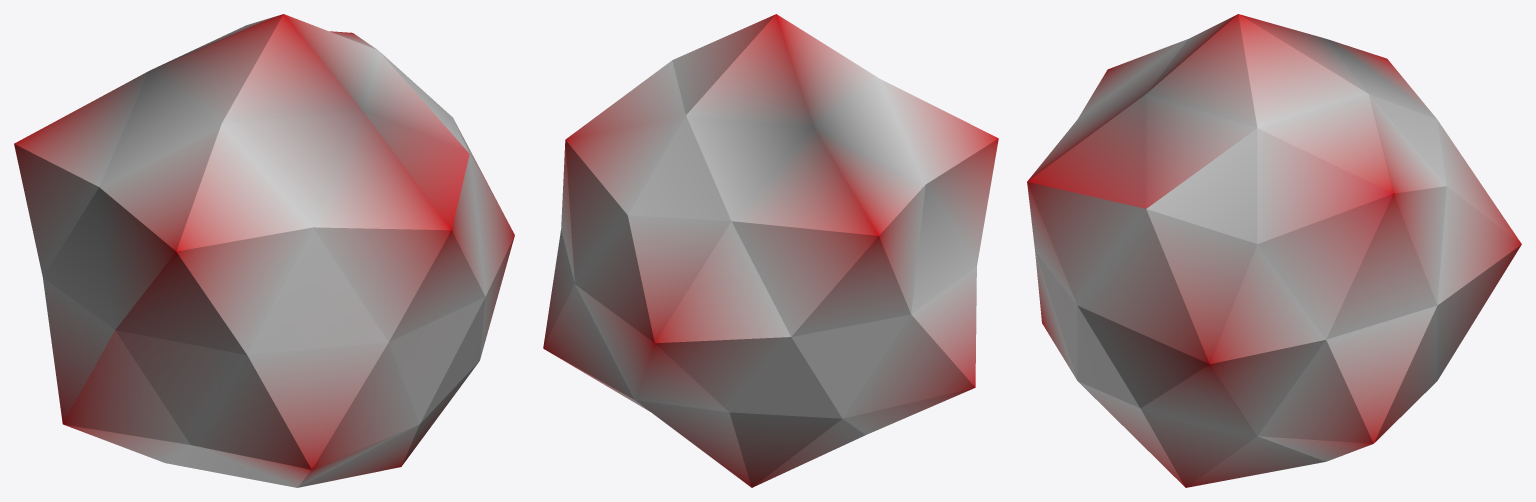
Rendered from enemy 1.fbx.
3 renders of one model, left to right at view 1: azimuth 30°, elevation 25°; view 2: azimuth 150°, elevation 25°; view 3: azimuth 270°, elevation 25°, orthographic. The views are drawn at different scales.
Parts seen in each view (by area): view 1: Icosphere; view 2: Icosphere; view 3: Icosphere.
Part boxes in pixels (x1=…): Icosphere: x1=14, y1=14, x2=514, y2=487; Icosphere: x1=543, y1=14, x2=998, y2=487; Icosphere: x1=1027, y1=14, x2=1521, y2=487.
Size of the model in its own units: 215 by 218 by 222.
